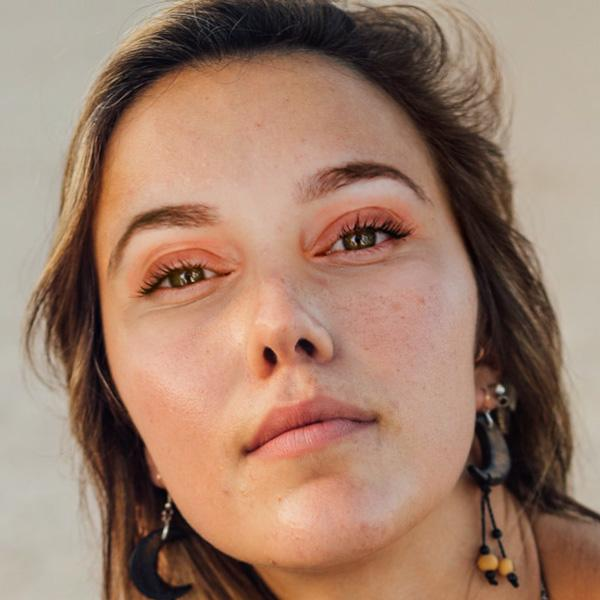Eyes: (126, 229, 244, 318), (295, 194, 421, 276)
